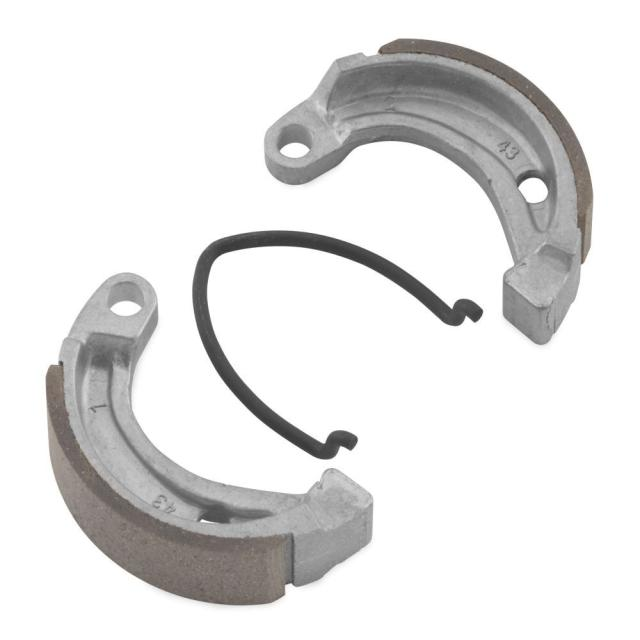brake_pad: (30, 275, 376, 611), (241, 36, 598, 332)
